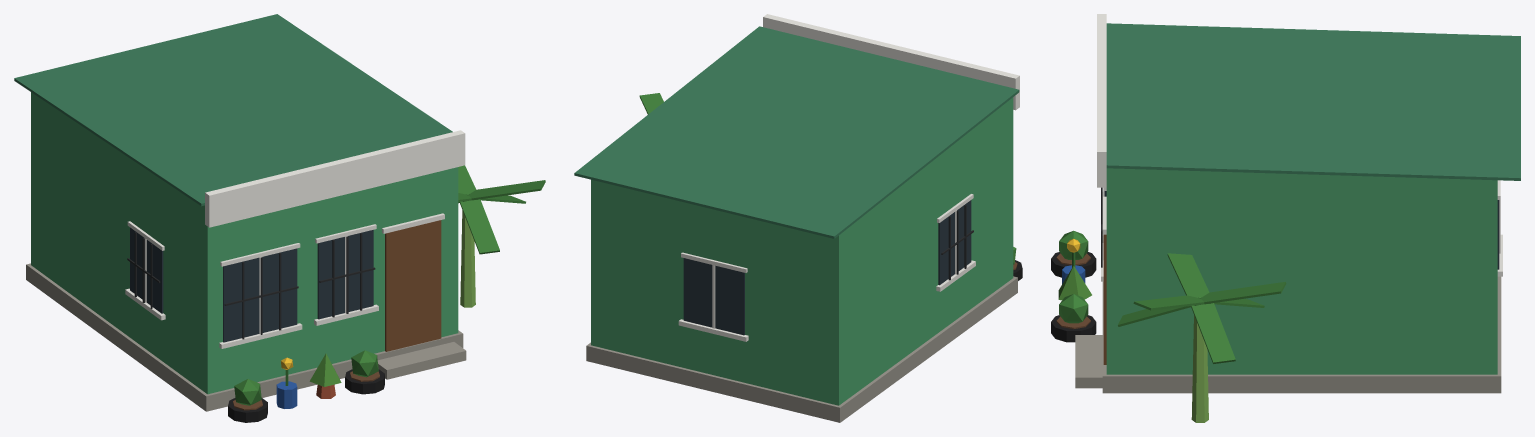
Rendered from BAY_F_Shop_S.glb.
3 views of the same model, side by side, from view 1: azimuth 30°, elevation 25°; view 2: azimuth 150°, elevation 25°; view 3: azimuth 270°, elevation 25° (orthographic). The views are drawn at different scales.
Visible parts, largest first — view 1: BAY_F_Shop_S; view 2: BAY_F_Shop_S; view 3: BAY_F_Shop_S.
Part boxes in pixels (x1,y1,x2,y2): BAY_F_Shop_S: (14, 14, 545, 422); BAY_F_Shop_S: (574, 14, 1022, 422); BAY_F_Shop_S: (1051, 14, 1520, 422).
Size of the model in its own units: 6.1 by 3.4 by 6.01.
1 material, 1 textured.
